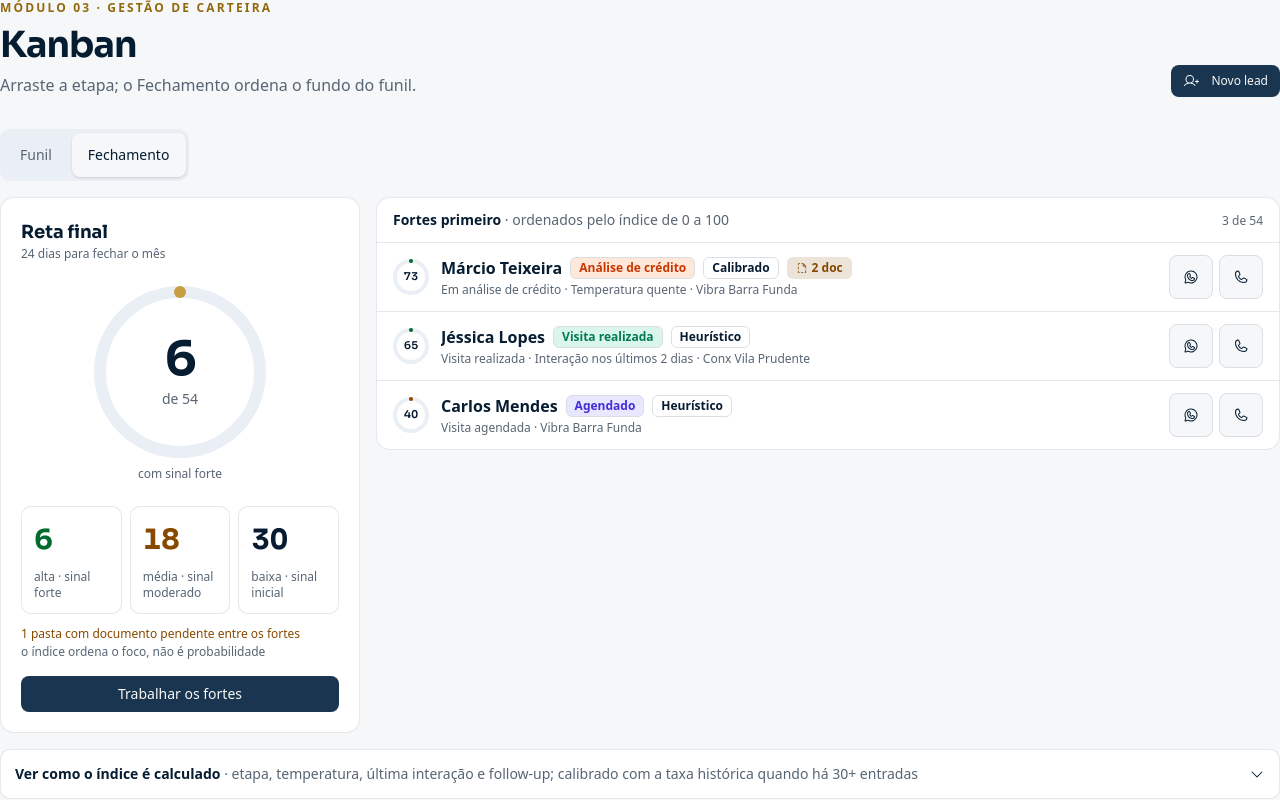
/pipeline?tab=fechamento — Reta final › a explicação do índice fica atrás de 'Ver como o índice é calculado'
Check: the text "não é uma probabilidade individual" is not shown
Click the button "Ver como o índice é calculado". click: (640, 774)
box: [0,749,1279,799]
(page scrolled)
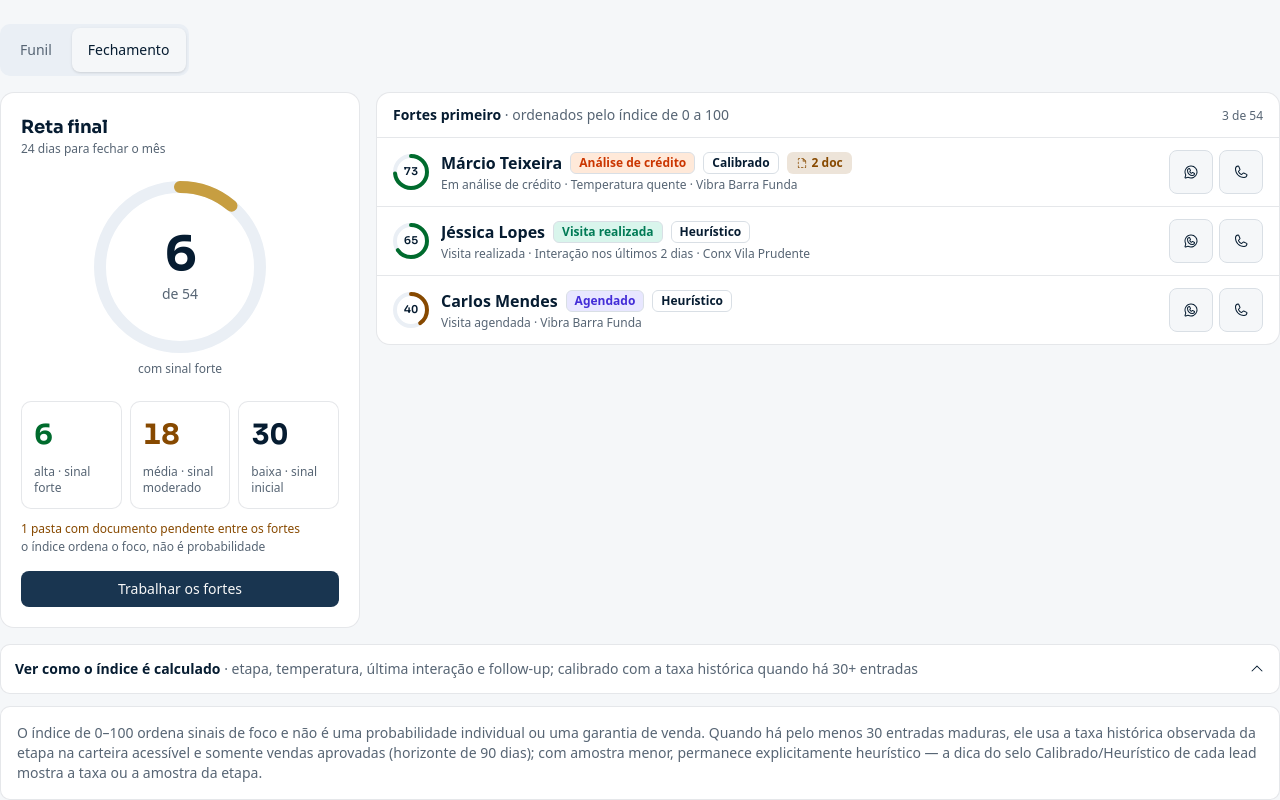
Check: the text "não é uma probabilidade individual" is shown, box [17,723,866,742]
